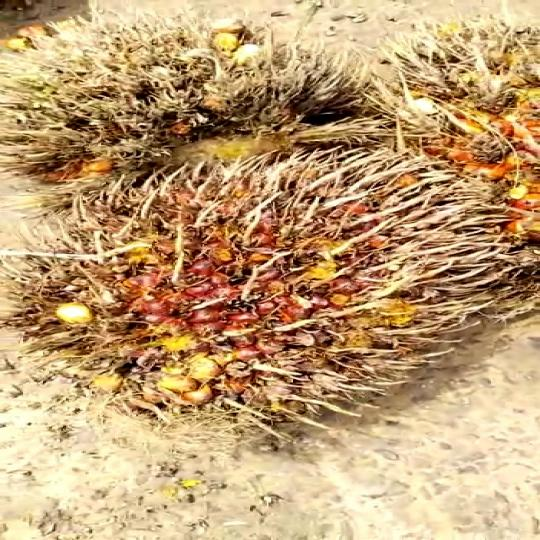terlalu masak: (0, 155, 522, 446), (0, 26, 373, 188)
